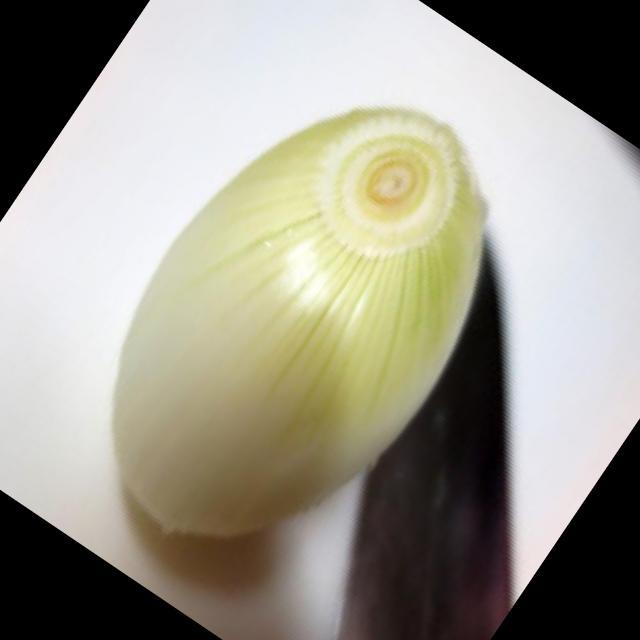Onion: (111, 106, 484, 543)
